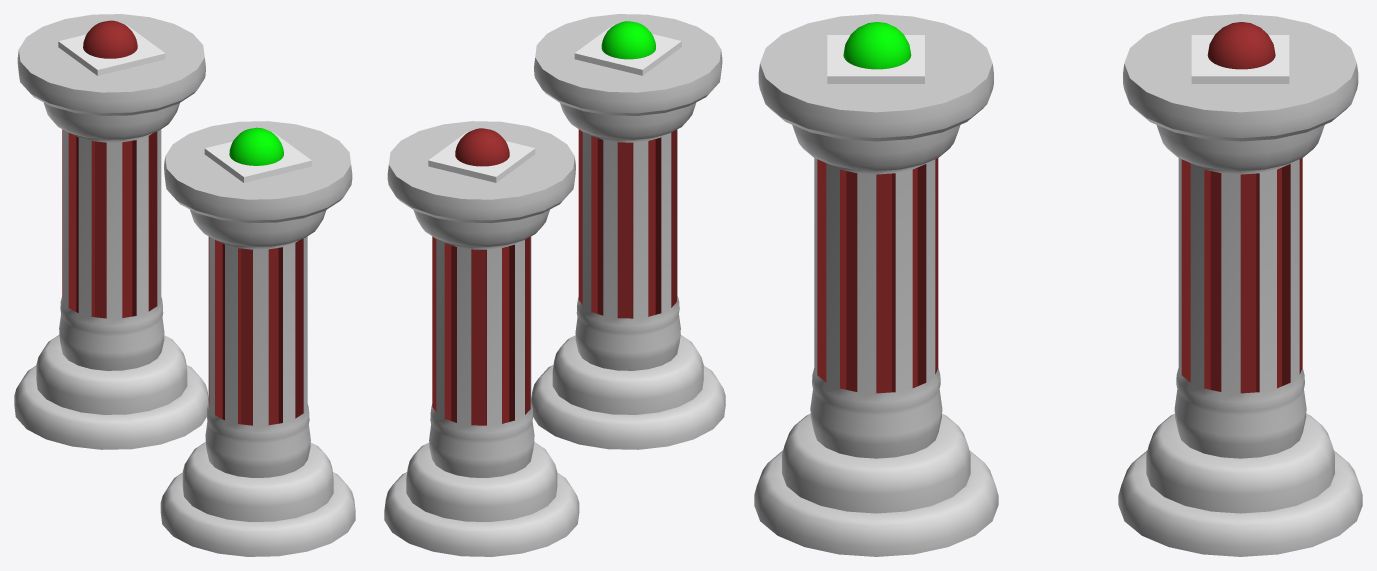
The model's file is Pillars.fbx.
3 renders of one model, left to right at view 1: azimuth 30°, elevation 25°; view 2: azimuth 150°, elevation 25°; view 3: azimuth 270°, elevation 25°, orthographic. The views are drawn at different scales.
Parts seen in each view (by area): view 1: PillarActivate, PillarReset, pCube1 (×2), pSphere1 (×2); view 2: PillarReset, PillarActivate, pCube1 (×2), pSphere1 (×2); view 3: PillarActivate, PillarReset, pCube1 (×2), pSphere1 (×2).
Part boxes in pixels (x1,y1,x2,y2): PillarActivate: (160,121,355,556); PillarReset: (14,14,208,449); pCube1 (×2): (58,24,311,182); pSphere1 (×2): (83,20,283,165); PillarReset: (384,121,579,556); PillarActivate: (531,14,725,449); pCube1 (×2): (428,24,681,182); pSphere1 (×2): (455,21,655,166); PillarActivate: (754,14,998,556); PillarReset: (1118,14,1362,556); pCube1 (×2): (827,35,1289,83); pSphere1 (×2): (843,22,1275,69).
Bounding box in the file's own units: 0.0853 × 0.1847 × 0.2124.
